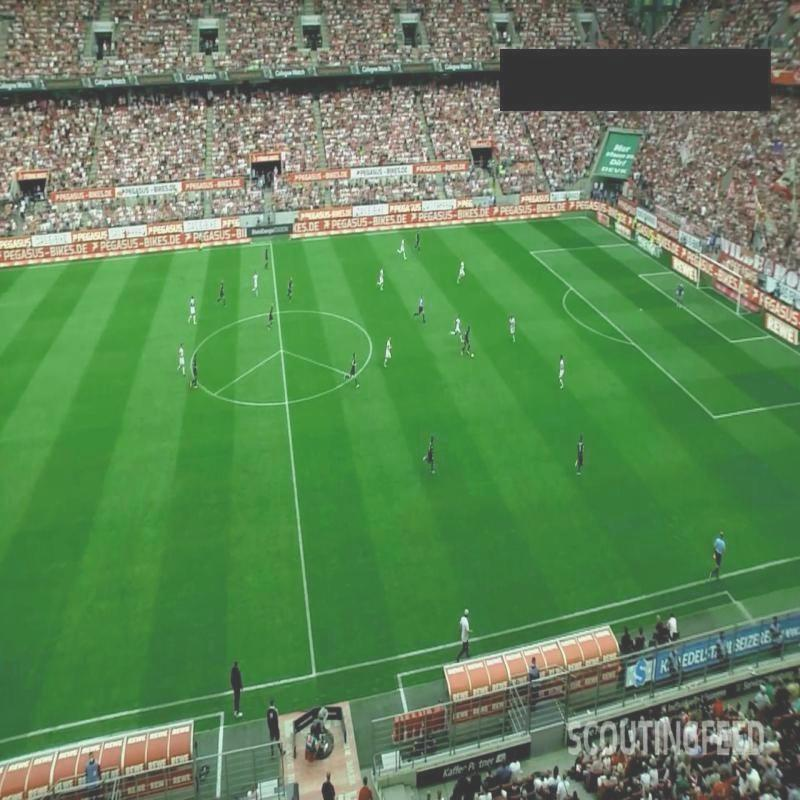1: (578, 210, 593, 224)
10: (564, 280, 578, 294)
11: (626, 336, 640, 350)
12: (706, 410, 720, 424)
13: (264, 235, 278, 249)
14: (270, 308, 284, 322)
15: (279, 397, 293, 411)
16: (302, 664, 324, 687)
2: (622, 237, 636, 251)
3: (666, 266, 680, 280)
4: (764, 328, 778, 342)
7: (634, 268, 648, 282)
8: (724, 334, 738, 348)
9: (524, 245, 538, 259)
c: (364, 334, 378, 350), (184, 358, 198, 372)
